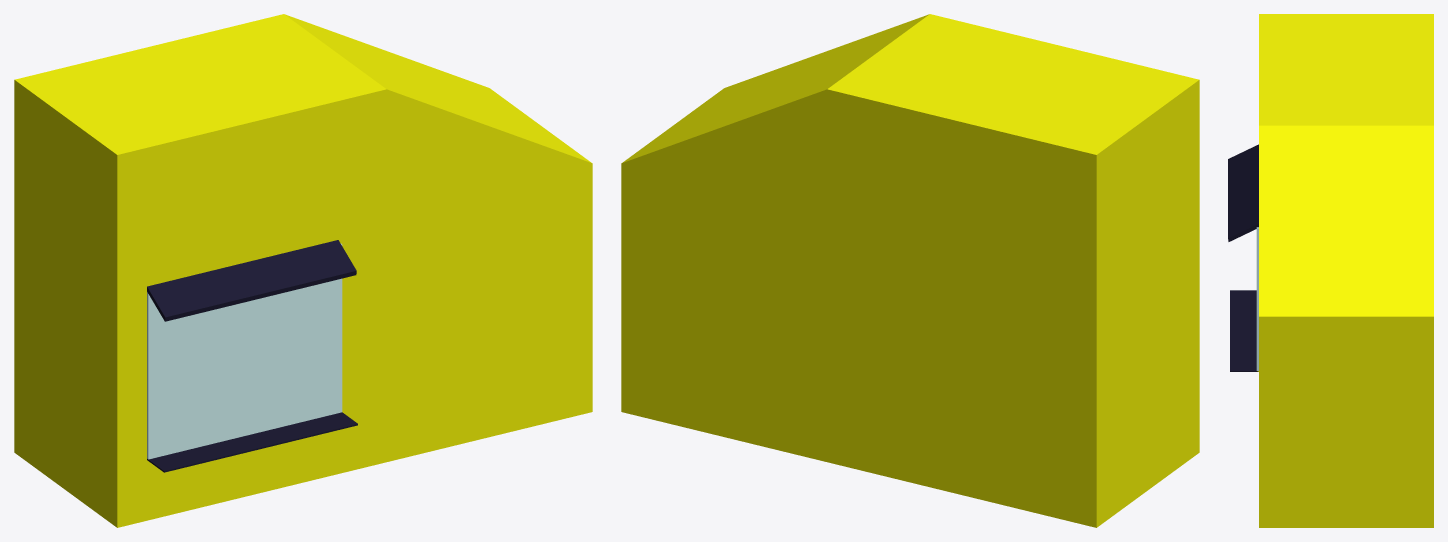
The picture shows the model from 3 angles, left to right: view 1: azimuth 30°, elevation 25°; view 2: azimuth 150°, elevation 25°; view 3: azimuth 270°, elevation 25°; orthographic projection. The views are drawn at different scales.
Visible parts, largest first — view 1: Mesh_0.012; view 2: Mesh_0.012; view 3: Mesh_0.012.
Boxes of the visible parts, bbox=[...] form: Mesh_0.012: bbox=[14, 14, 592, 527]; Mesh_0.012: bbox=[621, 14, 1199, 527]; Mesh_0.012: bbox=[1228, 14, 1433, 527].
Bounding box in the file's own units: 4 × 3 × 1.77.
